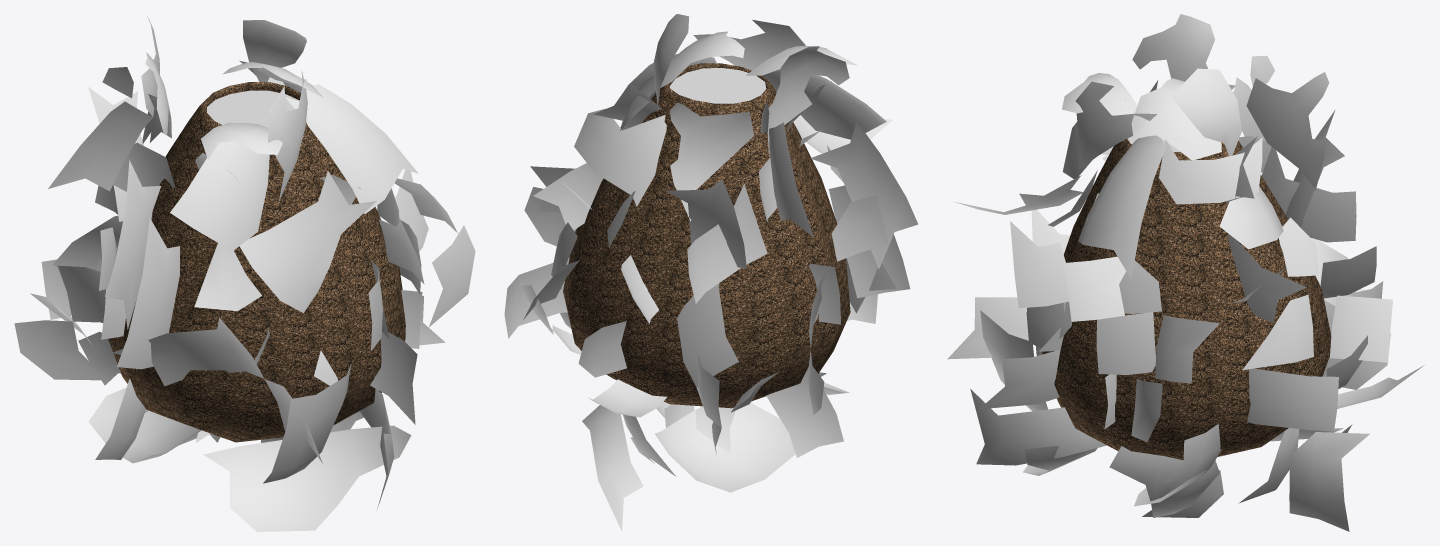
Rendered from vulcan.fbx.
The picture shows the model from 3 angles, left to right: view 1: azimuth 30°, elevation 25°; view 2: azimuth 150°, elevation 25°; view 3: azimuth 270°, elevation 25°; orthographic projection. The views are drawn at different scales.
Parts seen in each view (by area): view 1: Cube, Cube.024, Cube.073, Cube.081, Cube.088, Cube.019, Cube.001, Cube.021, Cube.076, Cube.029, Cube.032, Cube.030 (+25 smaller); view 2: Cube, Cube.030, Cube.089, Cube.083, Cube.032, Cube.034, Cube.037, Cube.056, Cube.052, Cube.020, Cube.081, Cube.078 (+29 smaller); view 3: Cube, Cube.088, Cube.083, Cube.067, Cube.056, Cube.054, Cube.090, Cube.034, Cube.085, Cube.048, Cube.072, Cube.062 (+31 smaller).
Boxes of the visible parts, bbox=[...] form: Cube: bbox=[108, 82, 405, 442]; Cube.024: bbox=[203, 425, 411, 531]; Cube.073: bbox=[239, 171, 376, 313]; Cube.081: bbox=[170, 141, 269, 251]; Cube.088: bbox=[285, 84, 418, 214]; Cube.019: bbox=[14, 265, 106, 380]; Cube.001: bbox=[112, 317, 322, 463]; Cube.021: bbox=[117, 218, 179, 369]; Cube.076: bbox=[48, 101, 152, 191]; Cube.029: bbox=[263, 363, 351, 483]; Cube.032: bbox=[105, 160, 161, 329]; Cube.030: bbox=[88, 387, 201, 463]; Cube: bbox=[563, 63, 850, 408]; Cube.030: bbox=[655, 401, 795, 492]; Cube.089: bbox=[574, 108, 666, 206]; Cube.083: bbox=[670, 102, 753, 221]; Cube.032: bbox=[810, 122, 918, 268]; Cube.034: bbox=[687, 184, 767, 303]; Cube.037: bbox=[677, 282, 738, 387]; Cube.056: bbox=[582, 405, 643, 531]; Cube.052: bbox=[533, 83, 661, 230]; Cube.020: bbox=[766, 367, 843, 457]; Cube.081: bbox=[762, 63, 886, 139]; Cube.078: bbox=[767, 46, 849, 154]; Cube: bbox=[1042, 138, 1331, 460]; Cube.088: bbox=[1078, 135, 1165, 278]; Cube.083: bbox=[1246, 72, 1329, 190]; Cube.067: bbox=[970, 389, 1106, 465]; Cube.056: bbox=[1289, 432, 1369, 531]; Cube.054: bbox=[1247, 368, 1338, 431]; Cube.090: bbox=[1159, 137, 1262, 204]; Cube.034: bbox=[1261, 147, 1356, 242]; Cube.085: bbox=[1171, 68, 1241, 156]; Cube.048: bbox=[1330, 295, 1392, 362]; Cube.072: bbox=[1010, 221, 1068, 308]; Cube.062: bbox=[1096, 312, 1155, 374].
Size of the model in its own units: 1878 by 2203 by 2045.
2 materials, 1 textured.
